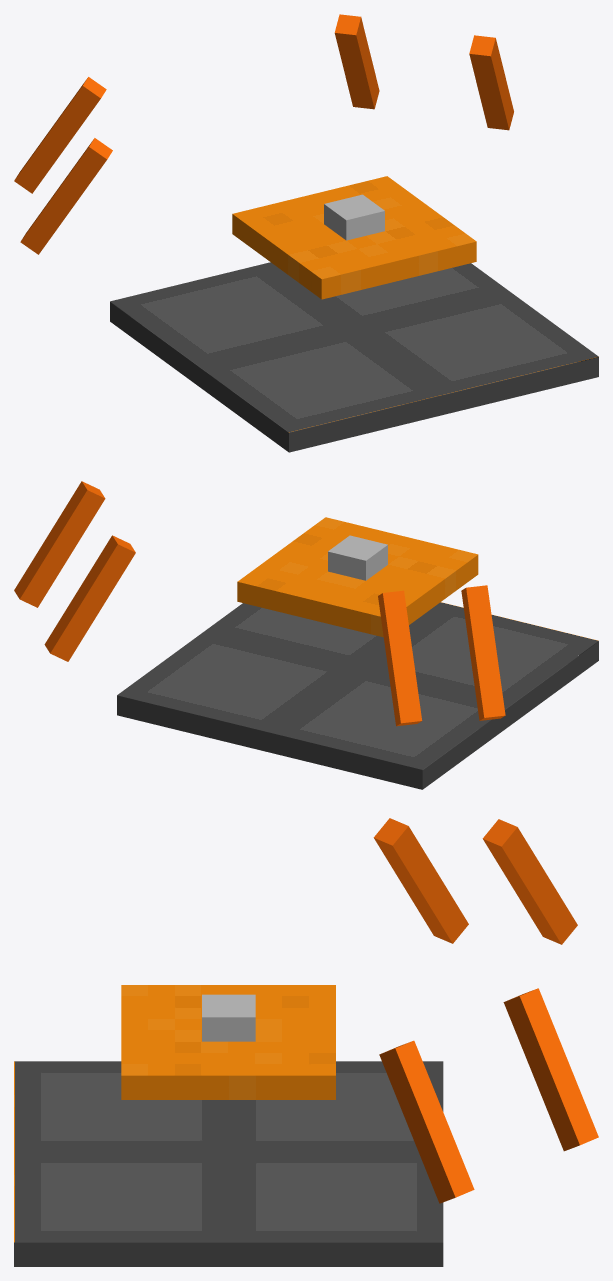
File: assemblyPlatform.obj
The picture shows the model from 3 angles, top to bottom: view 1: azimuth 30°, elevation 25°; view 2: azimuth 150°, elevation 25°; view 3: azimuth 270°, elevation 25°; orthographic projection. The views are drawn at different scales.
Visible parts, largest first — view 1: Base, Platform, Leg2, Leg4, Leg3, Leg1, Claw1, Claw2; view 2: Base, Platform, Leg3, Leg1, Leg2, Leg4, Claw2, Claw1; view 3: Base, Platform, Leg1, Leg3, Leg2, Leg4, Claw2, Claw1.
Boxes of the visible parts, x1,y1,x2,y2 form: Base: (110,262,598,452); Platform: (232,176,476,299); Leg2: (20,138,112,254); Leg4: (14,77,106,193); Leg3: (334,14,379,109); Leg1: (469,35,513,130); Claw1: (335,202,384,240); Claw2: (324,194,373,231); Base: (117,602,598,789); Platform: (237,517,478,637); Leg3: (44,535,135,661); Leg1: (14,481,105,607); Leg2: (461,585,505,720); Leg4: (378,590,422,726); Claw2: (328,543,376,580); Claw1: (339,535,387,572); Base: (14,1061,443,1266); Platform: (121,985,335,1099); Leg1: (379,1040,474,1203); Leg3: (503,988,598,1151); Leg2: (373,818,468,943); Leg4: (482,819,577,944); Claw2: (228,994,255,1041); Claw1: (202,994,228,1041).
Size of the model in its own units: 1.6 by 0.6785 by 1.36.
